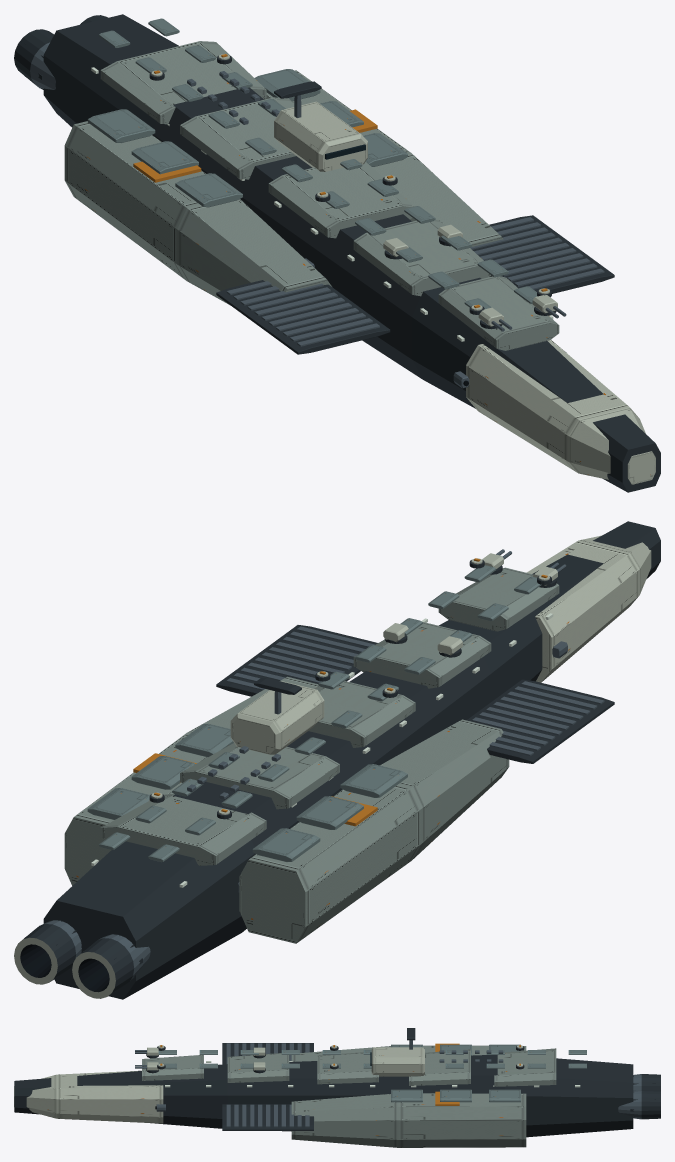
File: frigate-high.glb
3 views of the same model, one above another, from view 1: azimuth 30°, elevation 25°; view 2: azimuth 150°, elevation 25°; view 3: azimuth 270°, elevation 25° (orthographic). The views are drawn at different scales.
Visible parts, largest first — view 1: AV_frigate-high; view 2: AV_frigate-high; view 3: AV_frigate-high.
Boxes of the visible parts, <box> form: AV_frigate-high: <box>14,14,660,492</box>; AV_frigate-high: <box>14,521,660,999</box>; AV_frigate-high: <box>14,1028,660,1147</box>.
Bounding box in the file's own units: 0.6243 × 0.3303 × 1.97.
Materials: 1 (1 with a texture image).
